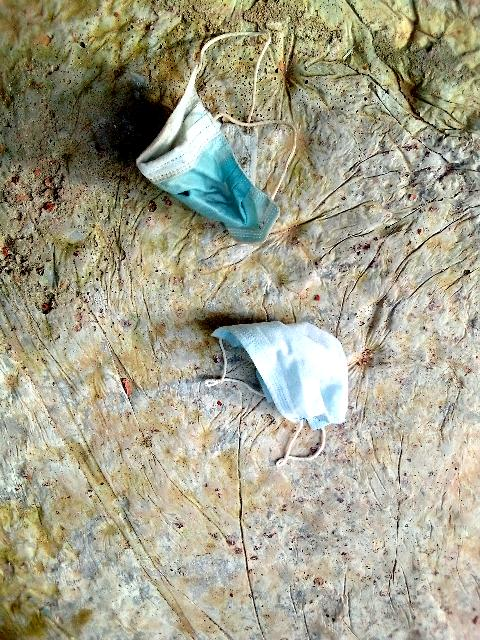mask: (141, 84, 294, 251), (220, 299, 356, 443)
